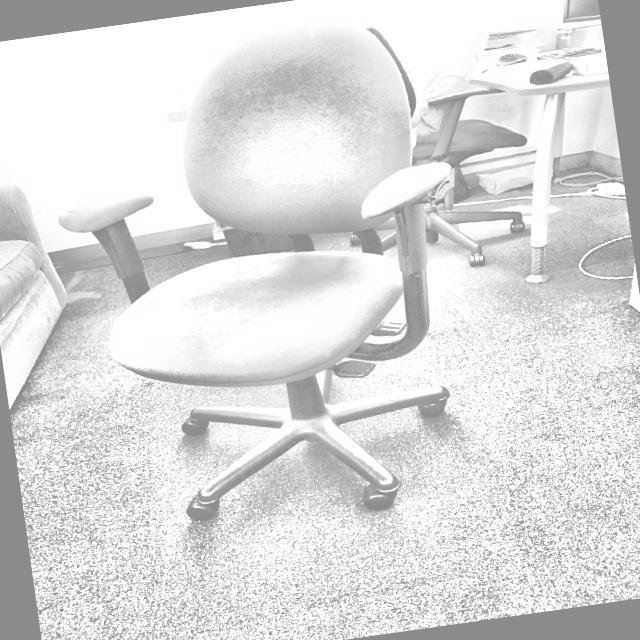chair: (33, 0, 492, 548)
